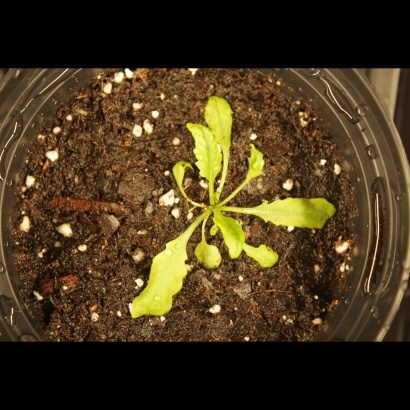leaf: (129, 230, 189, 324), (250, 187, 344, 238), (180, 116, 220, 183), (202, 87, 241, 148), (214, 212, 245, 261), (241, 137, 271, 184), (162, 150, 193, 195), (194, 236, 223, 272), (250, 239, 282, 271)
